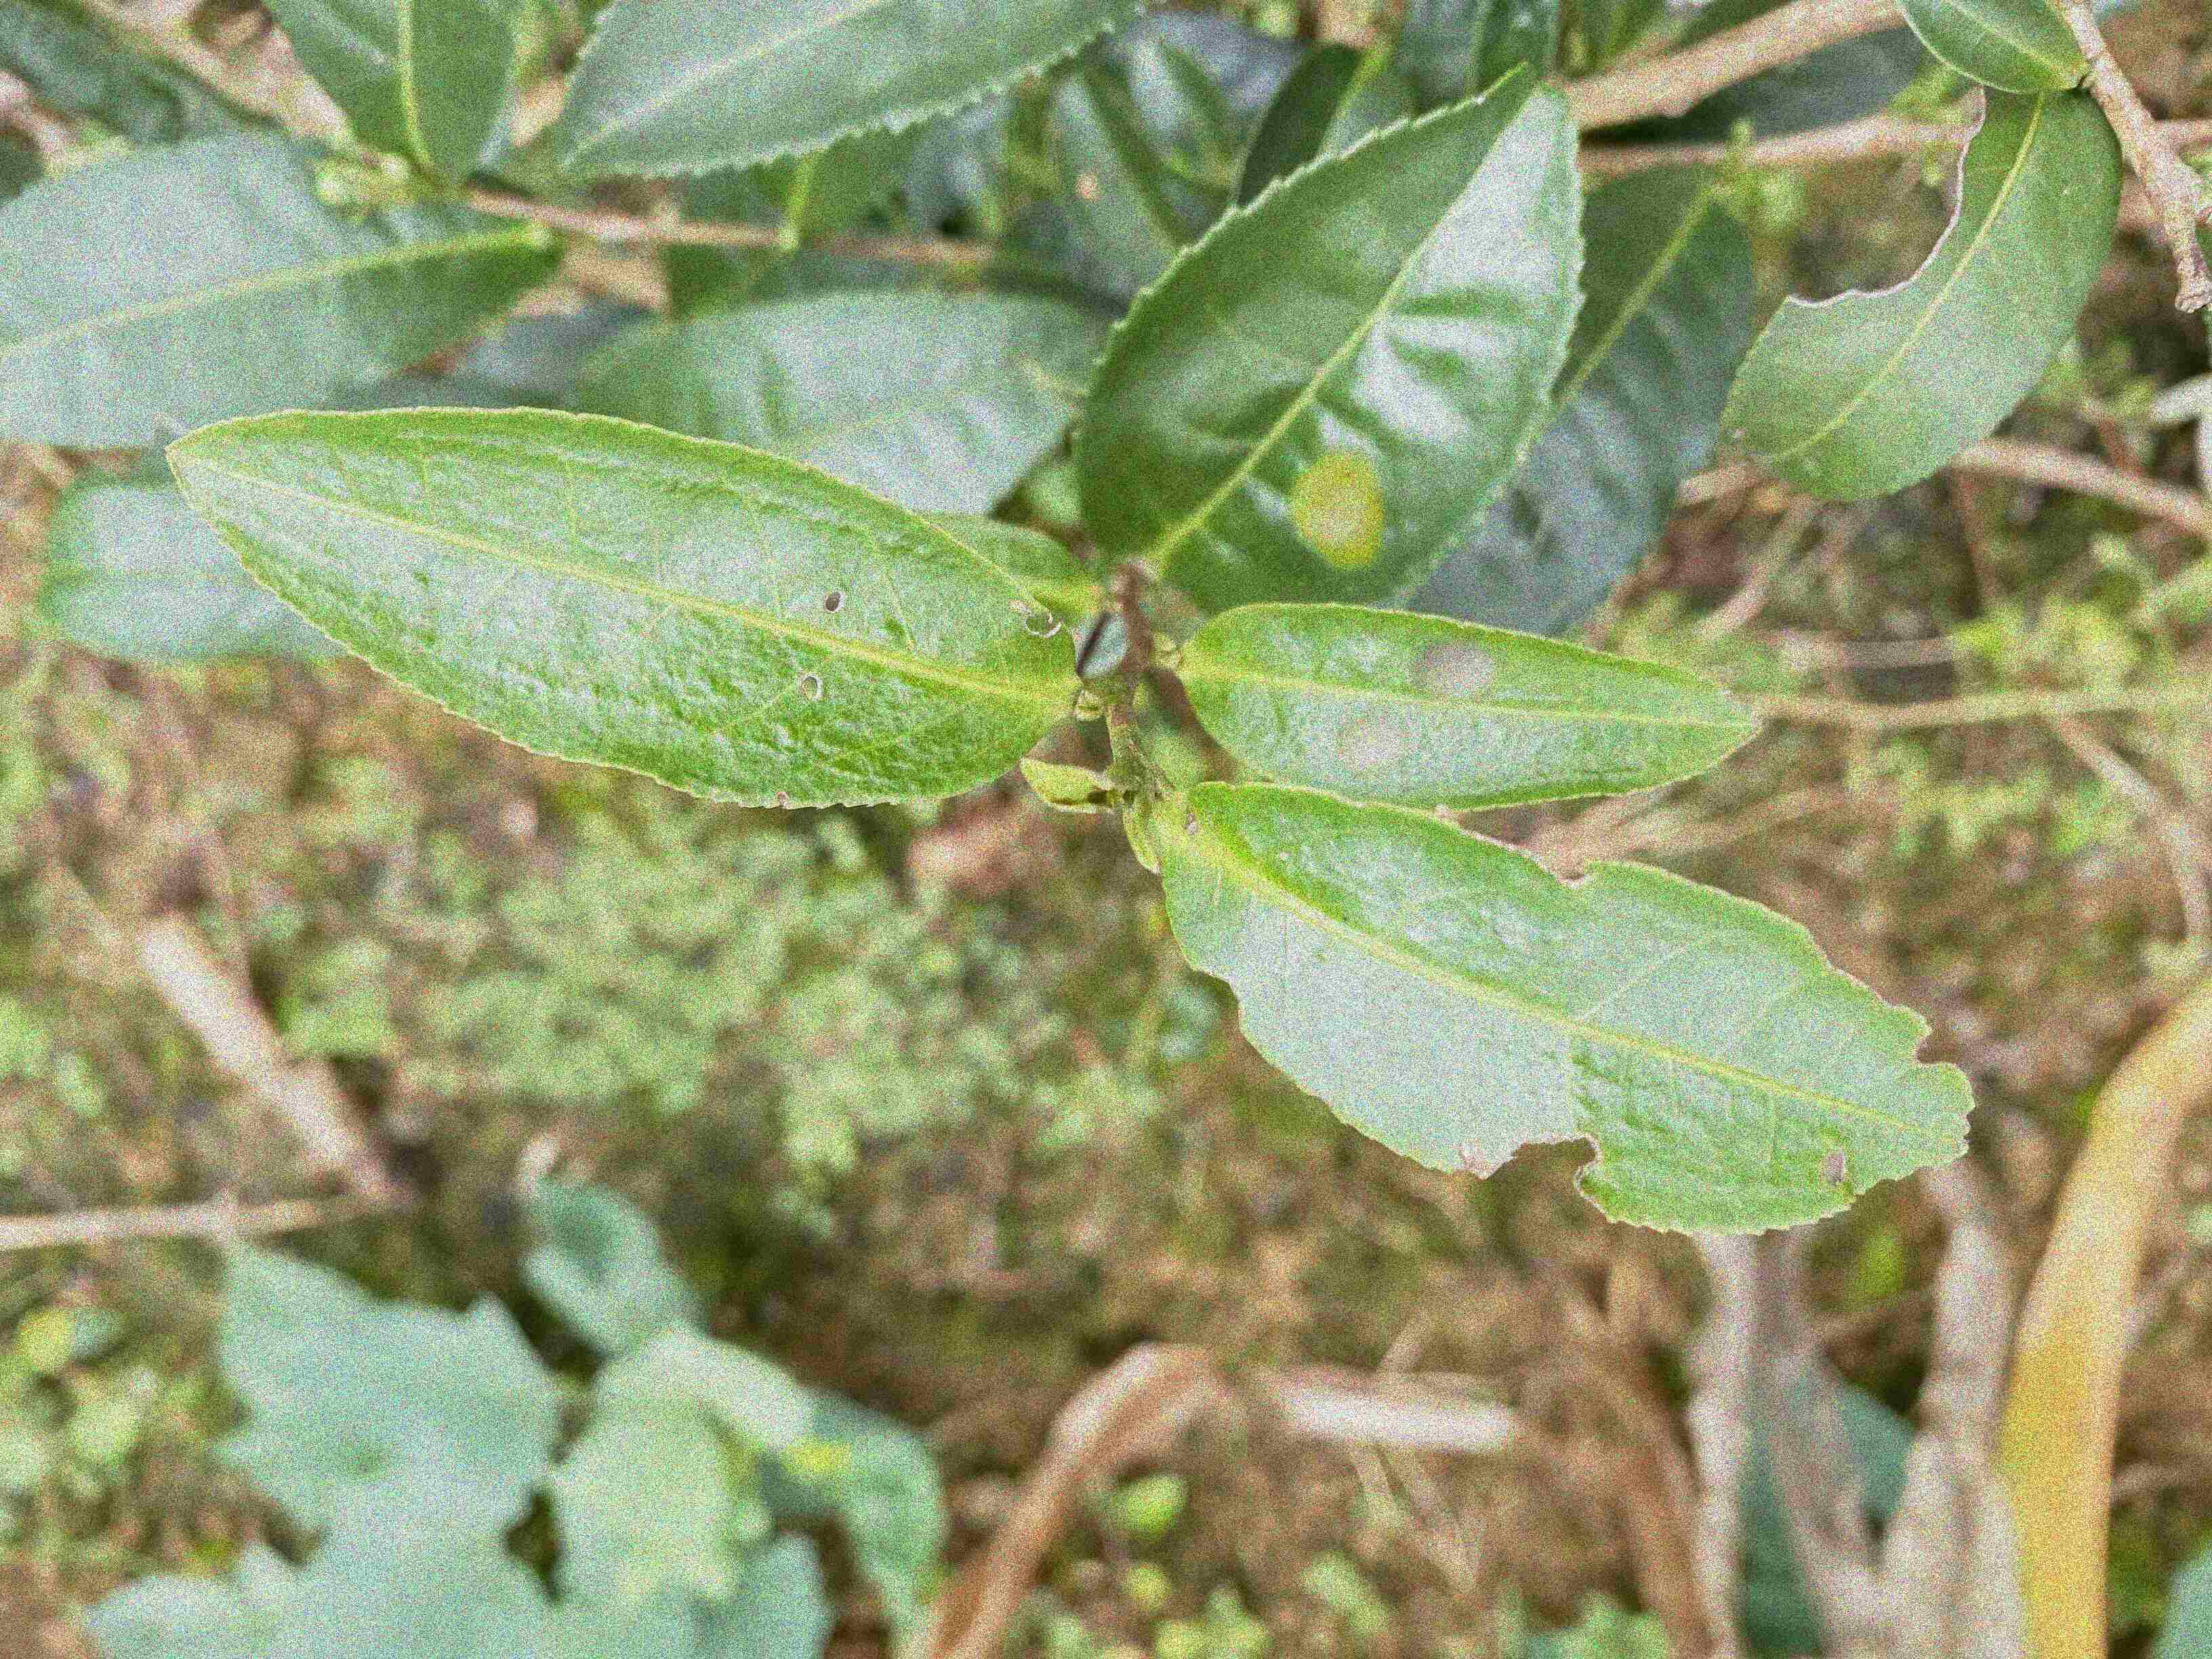chabing_high: (1186, 598, 1766, 812)
chabing_low: (1082, 61, 1588, 617)
chihuo_high: (1150, 774, 1982, 1237), (164, 404, 1083, 809)
chihuo_low: (1719, 82, 2123, 502)
